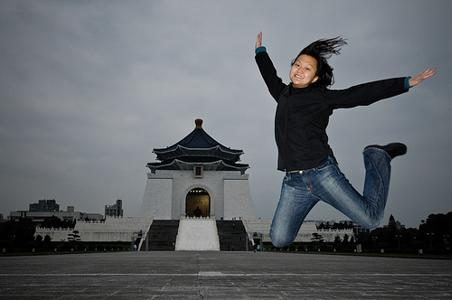person: (251, 28, 432, 244)
